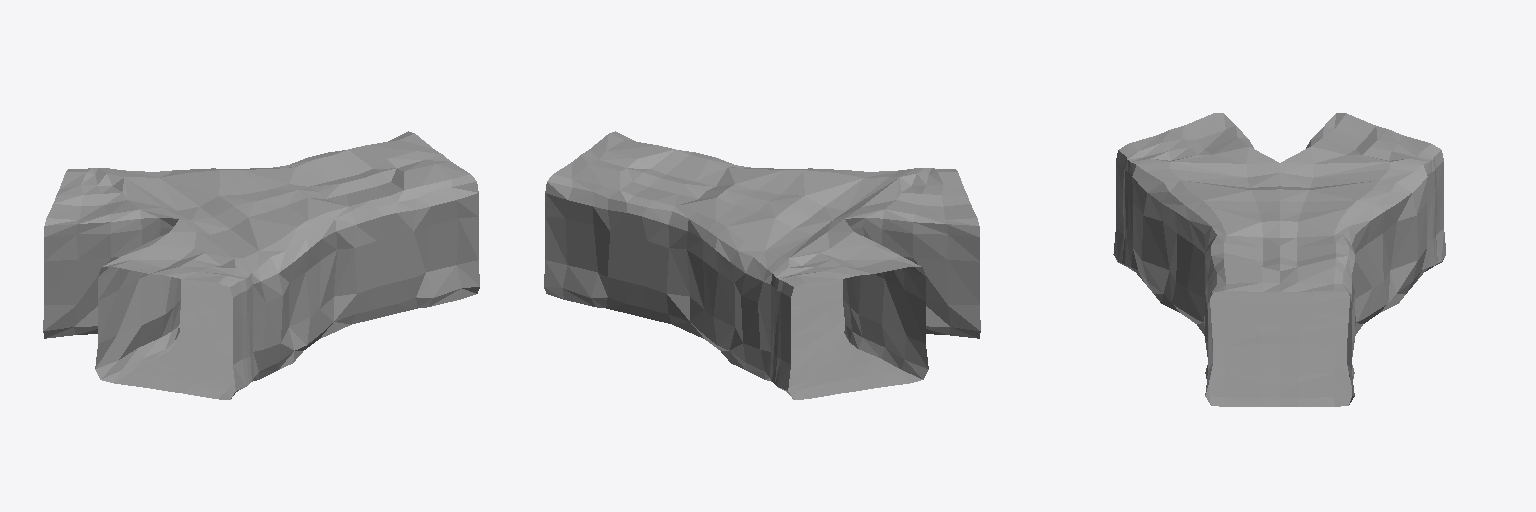
The model's file is Shaft_Split.obj.
3 renders of one model, left to right at view 1: azimuth 30°, elevation 25°; view 2: azimuth 150°, elevation 25°; view 3: azimuth 270°, elevation 25°, orthographic.
Parts seen in each view (by area): view 1: Shaft_Split; view 2: Shaft_Split; view 3: Shaft_Split.
Boxes of the visible parts, box(x1,y1,x2,y2) form: Shaft_Split: box(43, 131, 479, 399); Shaft_Split: box(544, 131, 980, 399); Shaft_Split: box(1113, 113, 1445, 406).
Size of the model in its own units: 8.49 by 2.61 by 6.55.